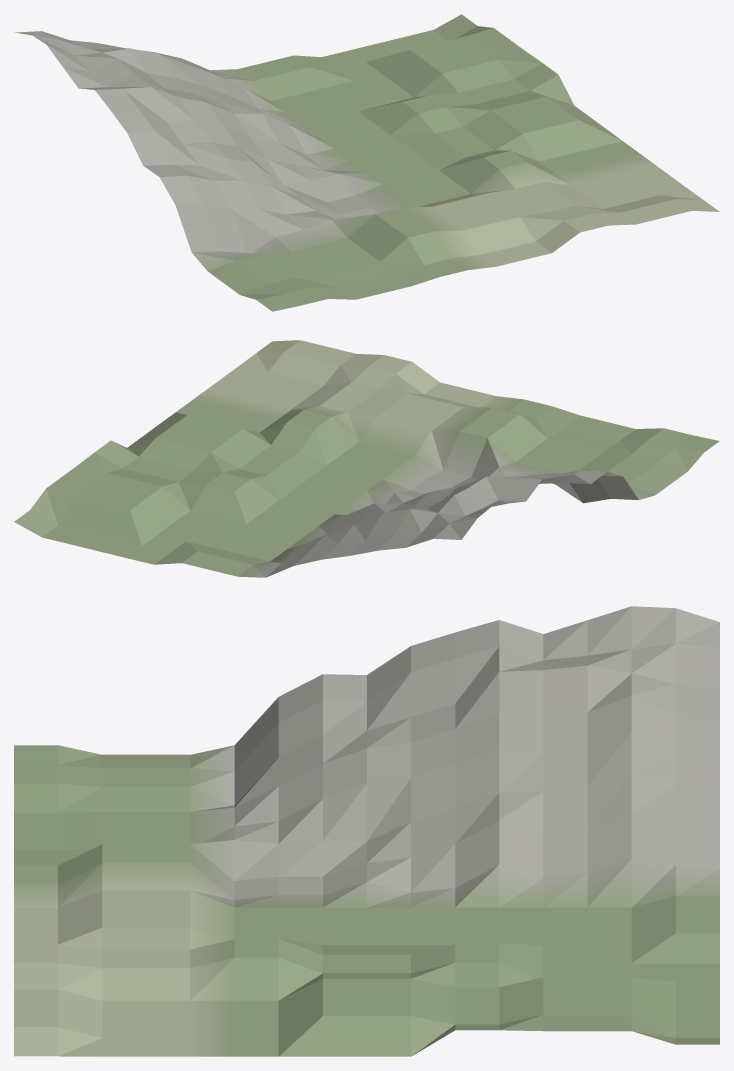
3 views of the same model, one above another, from view 1: azimuth 30°, elevation 25°; view 2: azimuth 150°, elevation 25°; view 3: azimuth 270°, elevation 25° (orthographic). The views are drawn at different scales.
Bounding box in the file's own units: 32 × 8.16 × 32.
